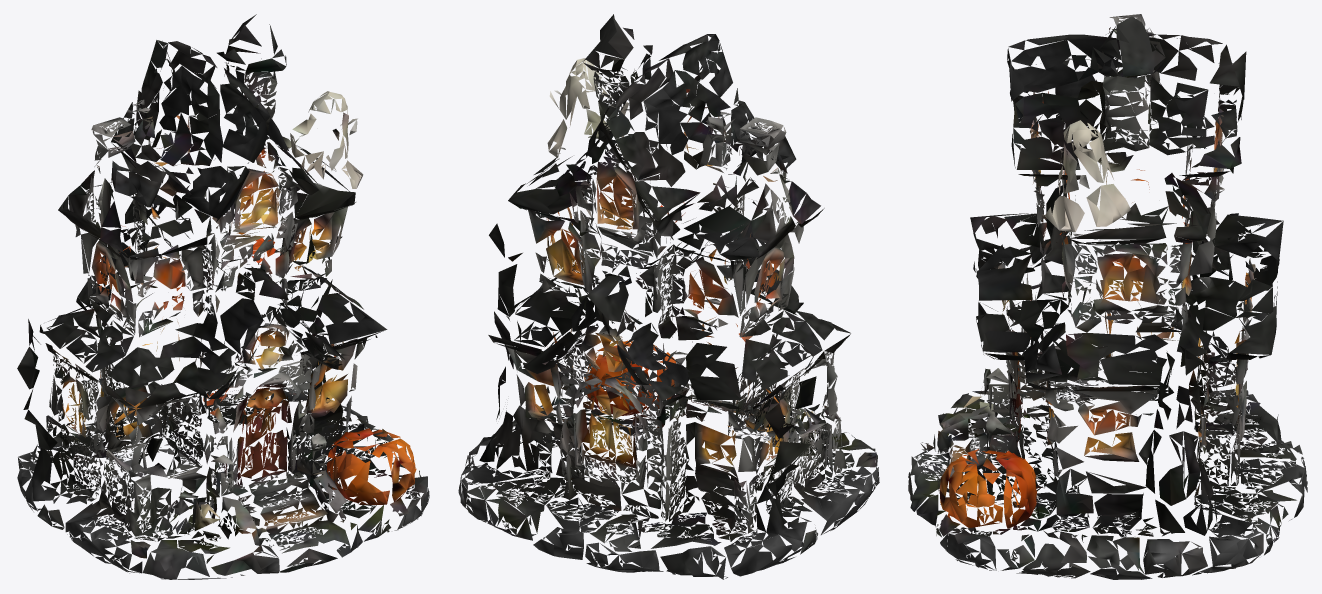
Rendered from house-horror.lod.glb.
The picture shows the model from 3 angles, left to right: view 1: azimuth 30°, elevation 25°; view 2: azimuth 150°, elevation 25°; view 3: azimuth 270°, elevation 25°; orthographic projection. The views are drawn at different scales.
Parts seen in each view (by area): view 1: tripo_node_39b889d4-3b5e-4d24-b80d-9b3680c91e10; view 2: tripo_node_39b889d4-3b5e-4d24-b80d-9b3680c91e10; view 3: tripo_node_39b889d4-3b5e-4d24-b80d-9b3680c91e10.
Boxes of the visible parts, x1=… form: tripo_node_39b889d4-3b5e-4d24-b80d-9b3680c91e10: x1=17, y1=14, x2=429, y2=579; tripo_node_39b889d4-3b5e-4d24-b80d-9b3680c91e10: x1=458, y1=14, x2=879, y2=579; tripo_node_39b889d4-3b5e-4d24-b80d-9b3680c91e10: x1=908, y1=14, x2=1307, y2=579.
Bounding box in the file's own units: 3.97 × 5.28 × 3.79.
1 material, 1 textured.
